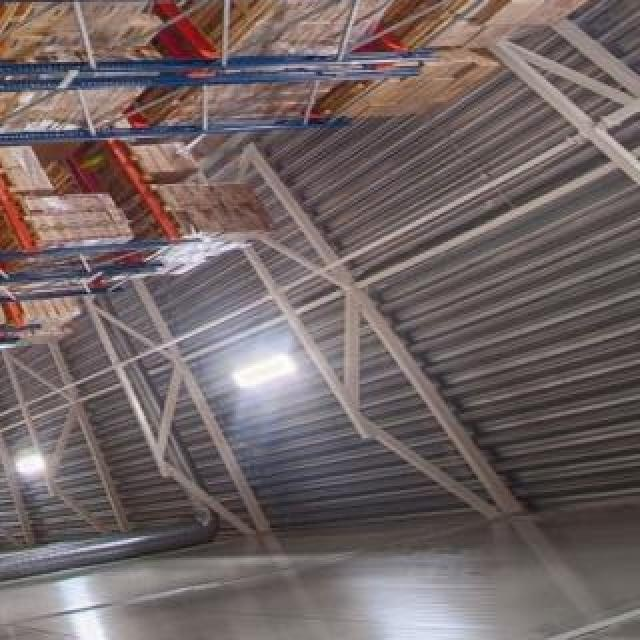fluorescent tube: (213, 334, 309, 403)
